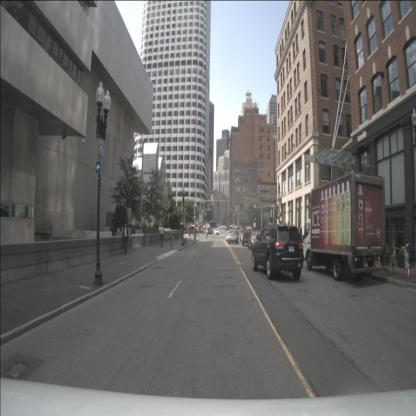human-pedestrian-adult: (123, 223, 129, 255), (160, 224, 164, 248), (188, 228, 191, 237), (206, 229, 208, 240)
vehicle-bicycle: (386, 246, 398, 276), (402, 241, 410, 279)
vehicle-car: (252, 224, 304, 280), (247, 231, 262, 250), (243, 230, 252, 246), (228, 230, 238, 244), (240, 230, 247, 241), (226, 231, 233, 241), (203, 223, 210, 230), (206, 228, 212, 235)
vehicle-truck: (302, 171, 386, 281)
